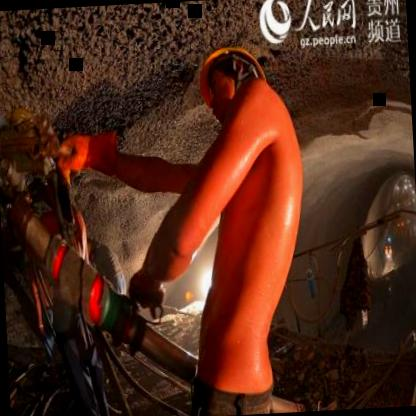helmet: (196, 37, 268, 115)
